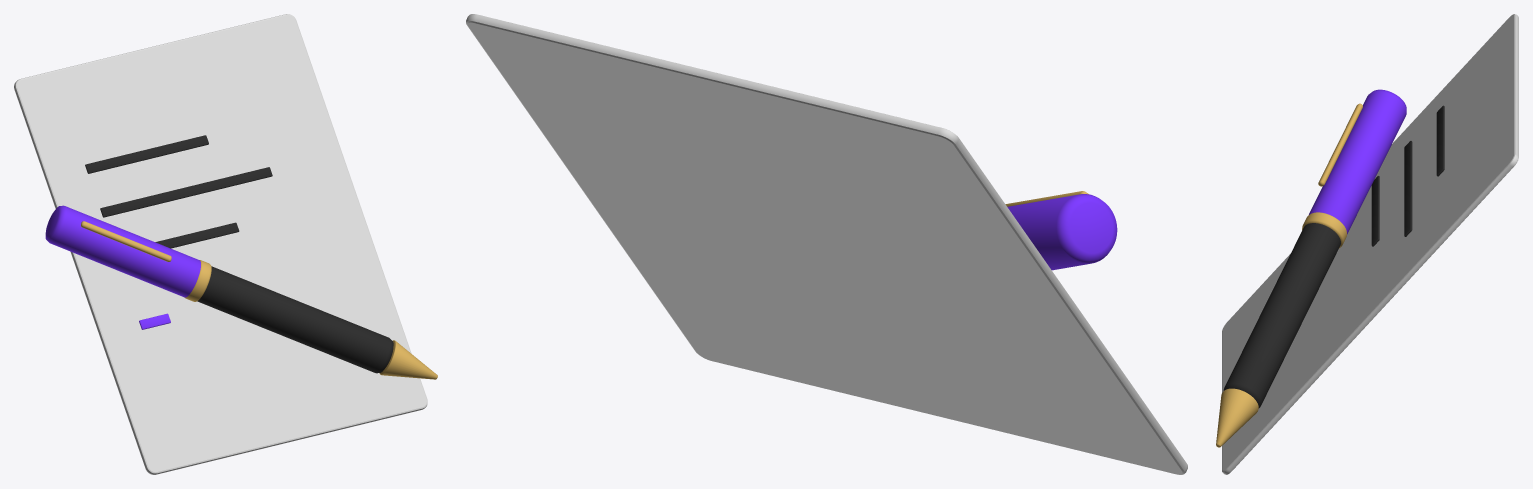
Rendered from plume.glb.
3 renders of one model, left to right at view 1: azimuth 30°, elevation 25°; view 2: azimuth 150°, elevation 25°; view 3: azimuth 270°, elevation 25°, orthographic. The views are drawn at different scales.
Parts seen in each view (by area): view 1: ext, cyl, cyl.001, box.001, box, cyl.003, box.002, box.004, cyl.002; view 2: ext, cyl.001; view 3: ext, cyl, cyl.001, cyl.003, box.001, box.004, box, box.002, cyl.002.
Boxes of the visible parts, left/top/right/bottom form: ext: left=14, top=14, right=427, bottom=474; cyl: left=197, top=266, right=393, bottom=373; cyl.001: left=45, top=205, right=200, bottom=297; box.001: left=100, top=167, right=272, bottom=217; box: left=85, top=135, right=208, bottom=173; cyl.003: left=379, top=340, right=437, bottom=379; box.002: left=155, top=222, right=239, bottom=248; box.004: left=81, top=221, right=171, bottom=261; cyl.002: left=184, top=260, right=211, bottom=301; ext: left=466, top=14, right=1187, bottom=474; cyl.001: left=1007, top=194, right=1117, bottom=270; ext: left=1222, top=14, right=1518, bottom=474; cyl: left=1223, top=223, right=1340, bottom=408; cyl.001: left=1308, top=89, right=1406, bottom=234; cyl.003: left=1216, top=388, right=1258, bottom=447; box.001: left=1404, top=141, right=1412, bottom=236; box.004: left=1318, top=103, right=1362, bottom=186; box: left=1436, top=105, right=1444, bottom=176; box.002: left=1371, top=176, right=1379, bottom=246; cyl.002: left=1302, top=212, right=1346, bottom=248.
Size of the model in its own units: 3.24 by 2.93 by 2.52.
